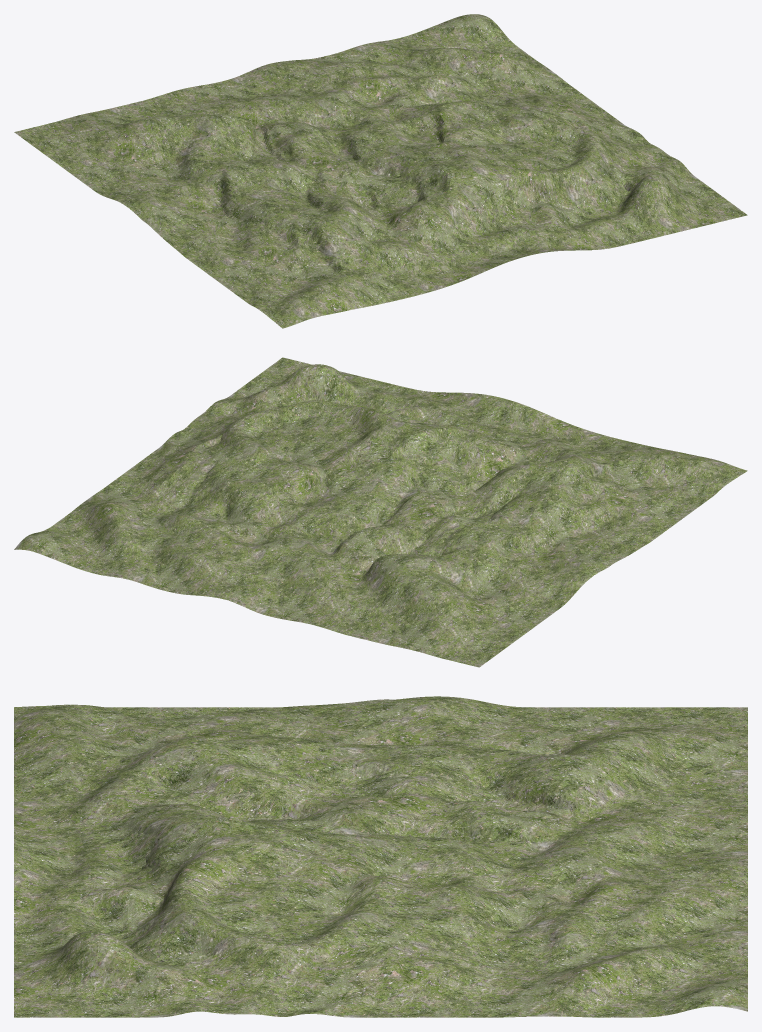
Rendered from floor.obj.
The picture shows the model from 3 angles, top to bottom: view 1: azimuth 30°, elevation 25°; view 2: azimuth 150°, elevation 25°; view 3: azimuth 270°, elevation 25°; orthographic projection. The views are drawn at different scales.
Visible parts, largest first — view 1: Plane; view 2: Plane; view 3: Plane.
Boxes of the visible parts, left/top/right/bottom form: Plane: left=14, top=14, right=747, bottom=328; Plane: left=14, top=357, right=747, bottom=667; Plane: left=14, top=696, right=747, bottom=1017.
Bounding box in the file's own units: 20.01 × 1.55 × 20.
